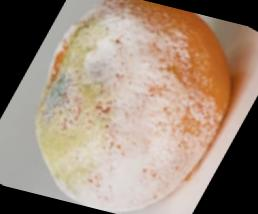Orange Rotten: (13, 0, 258, 214)
